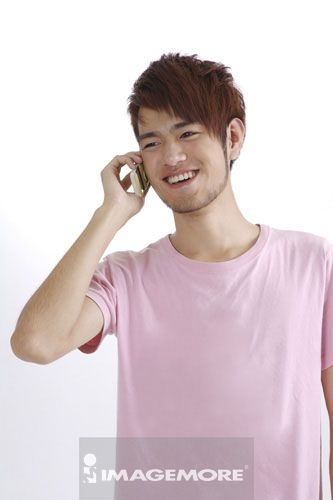talk: (96, 116, 215, 229)
